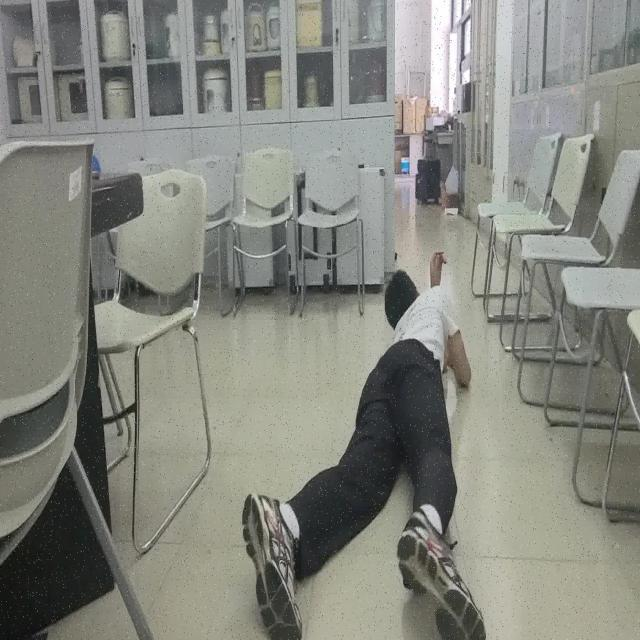fall: (240, 251, 484, 639)
